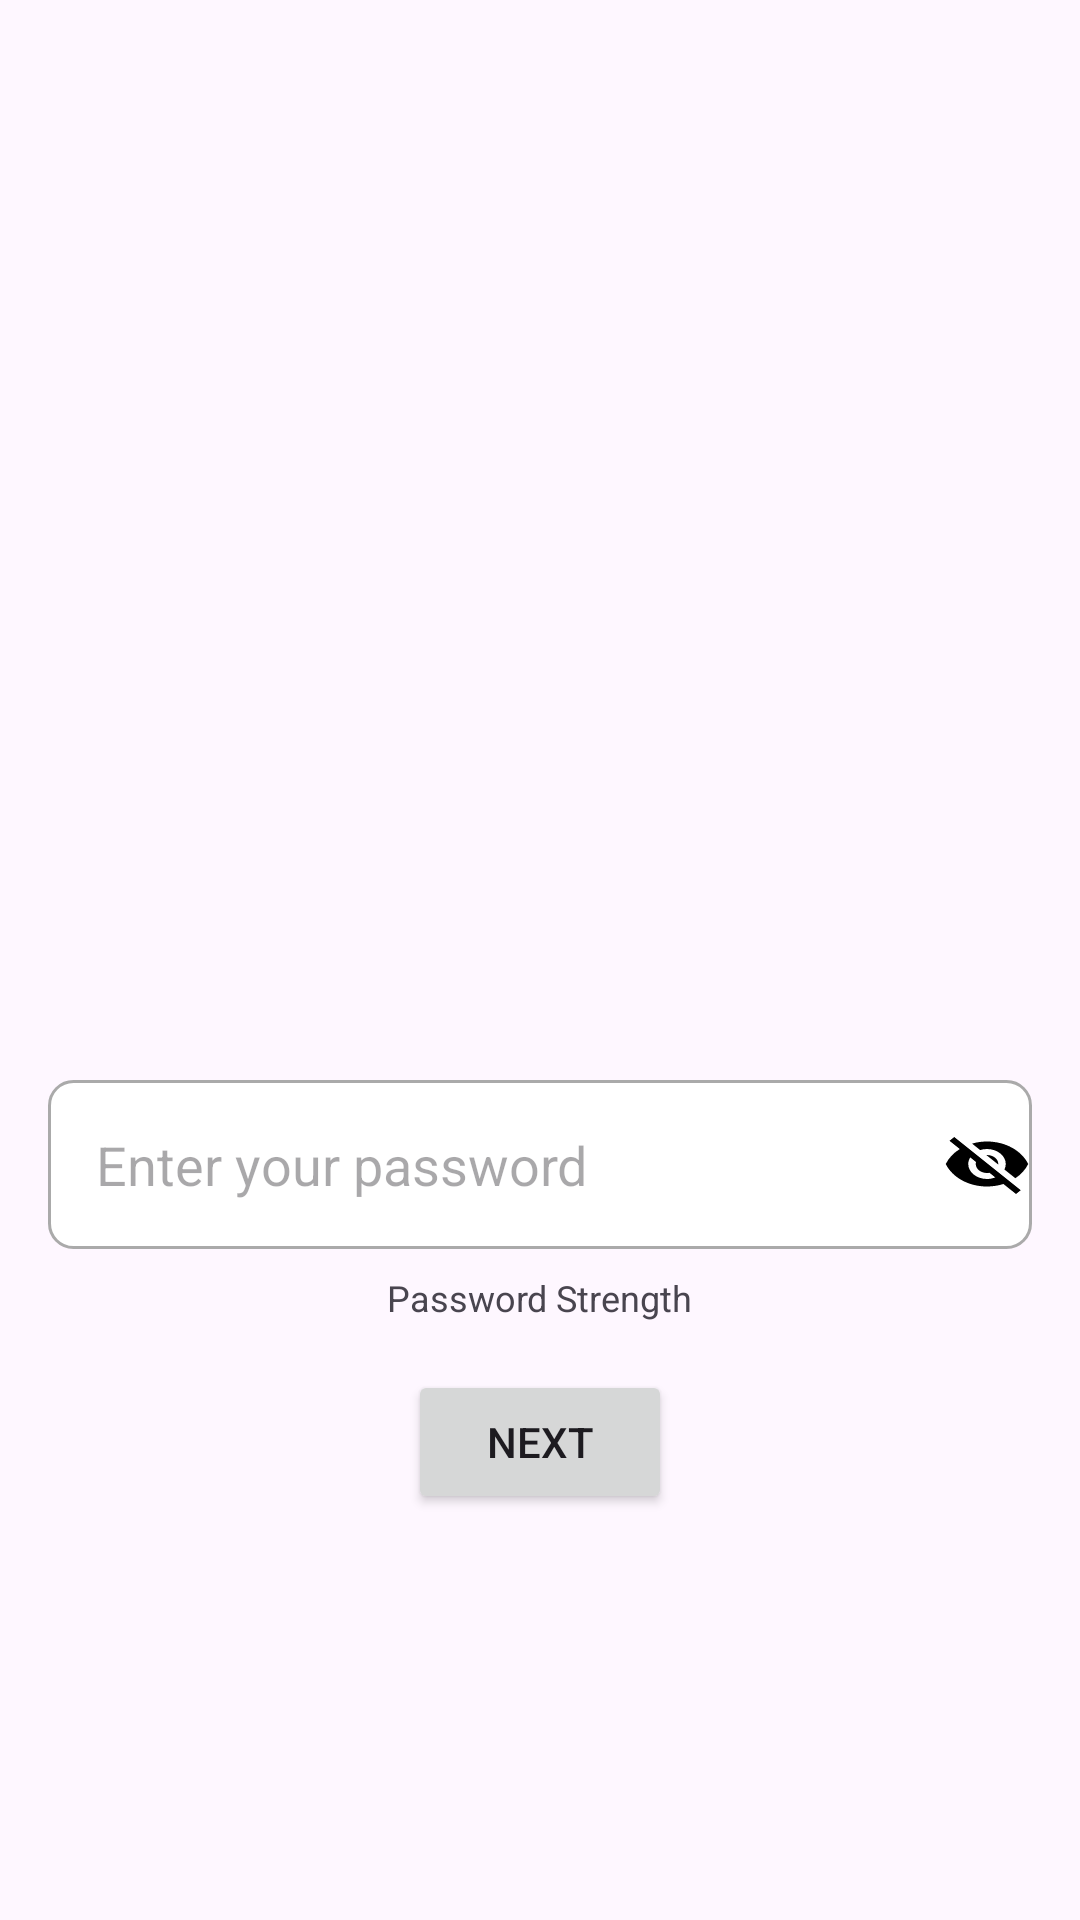

Point at icon controls on the screen. Image size 1080×1920, points as point (x, y).
Toggle Password Visibility: point (987, 1165)
